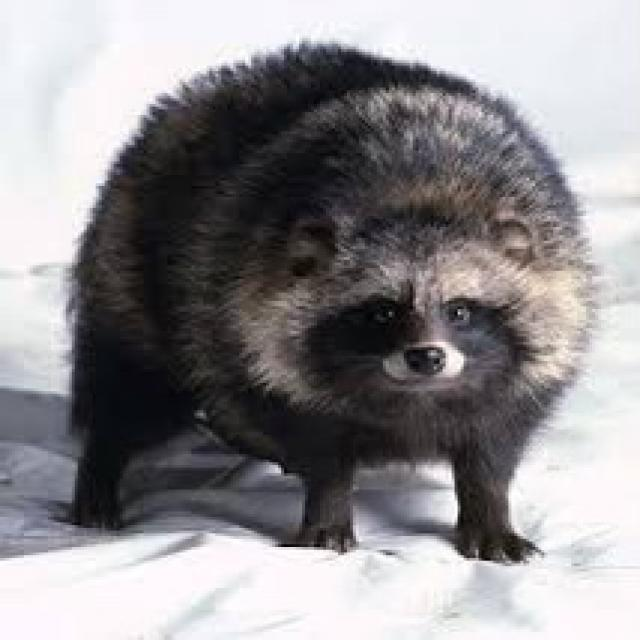racoon: (93, 24, 584, 572)
